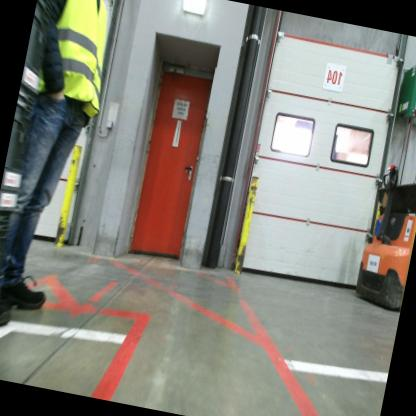pallet_truck: (348, 154, 416, 315)
